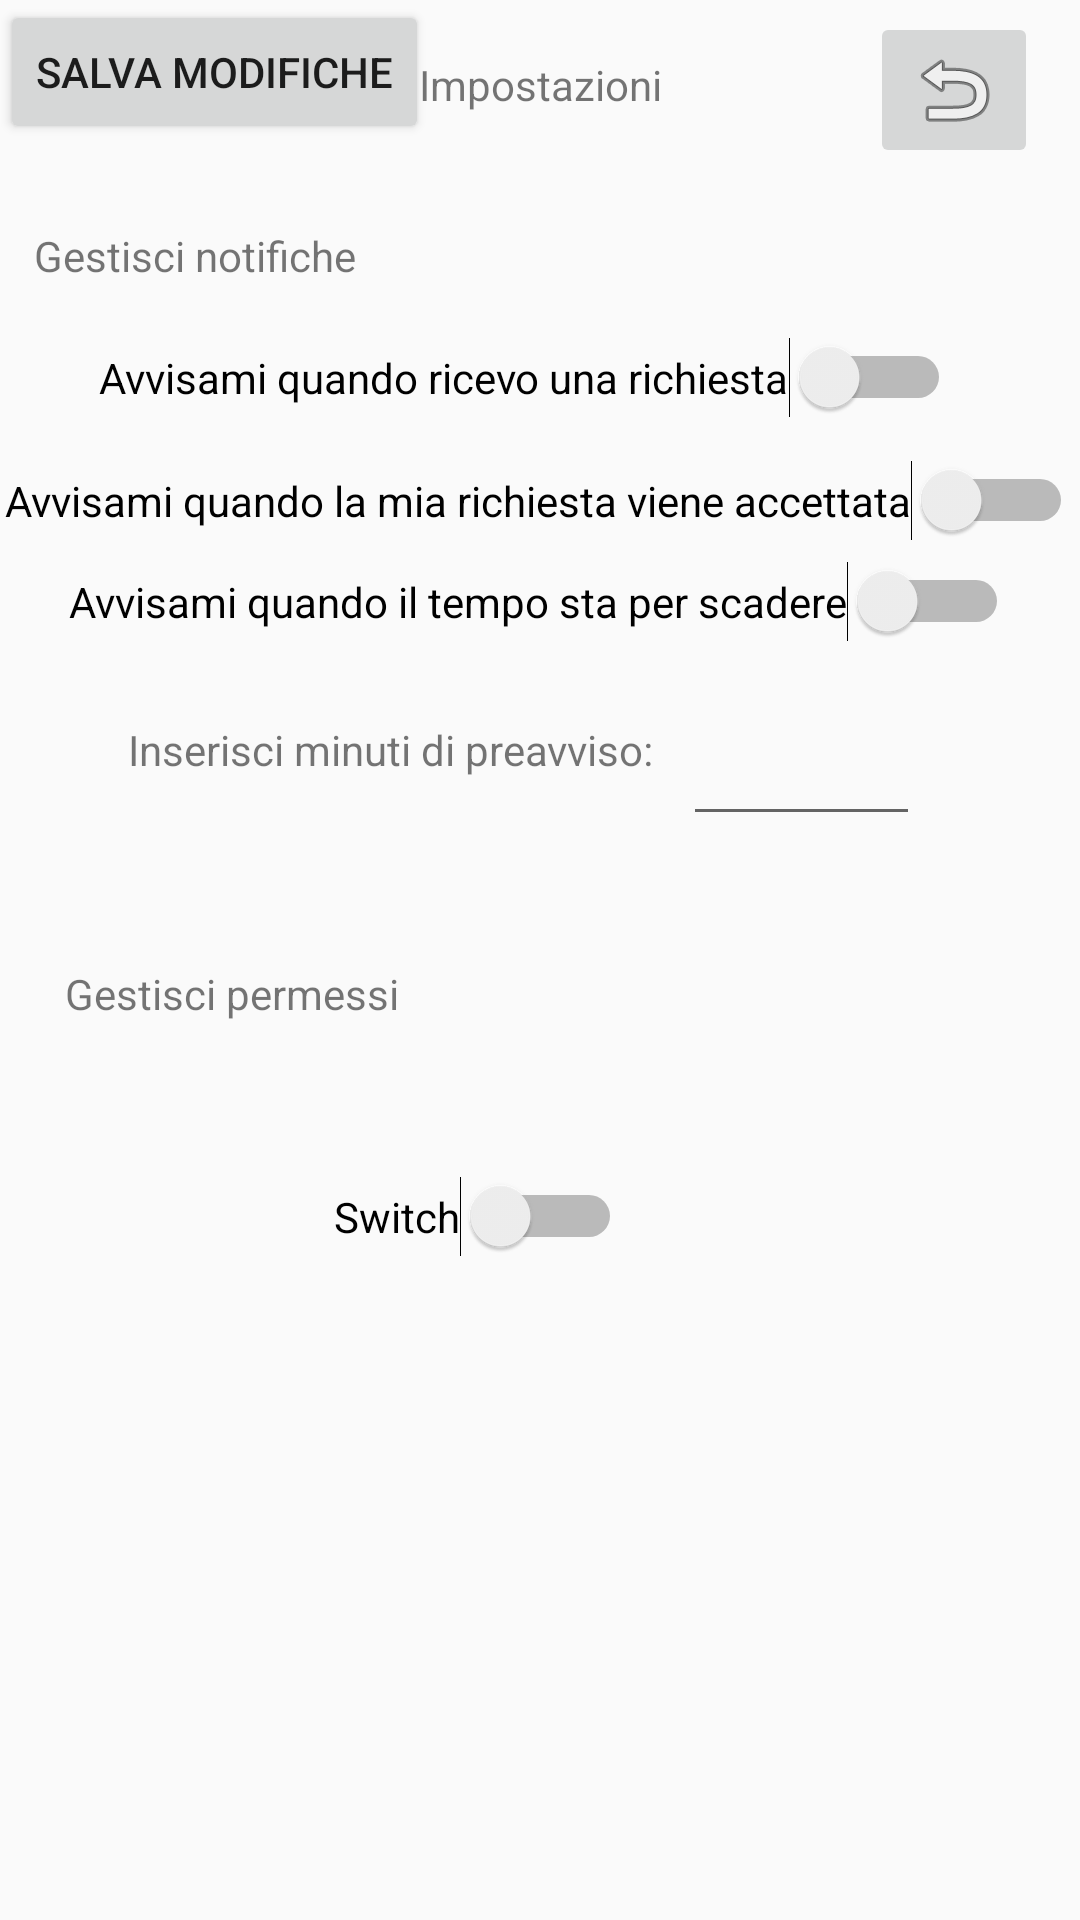

Icon click points for this 1080 × 1920 phone screenshot, format (x=x, y=y):
revert: (x=954, y=90)
